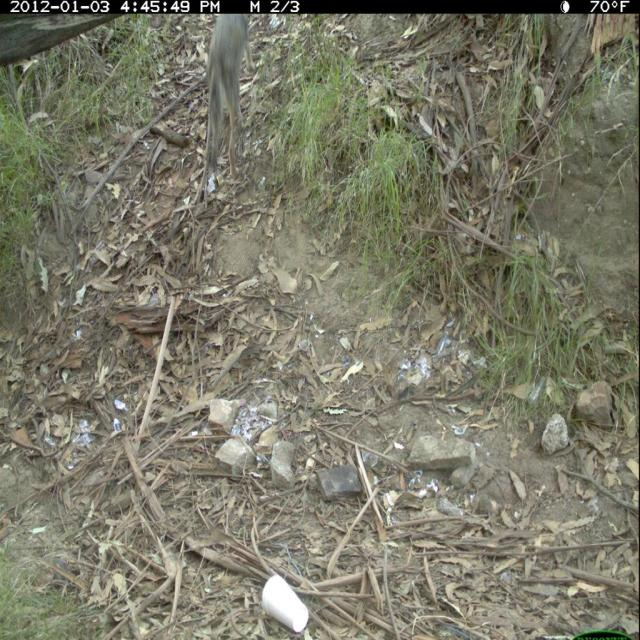coyote: (203, 11, 257, 195)
